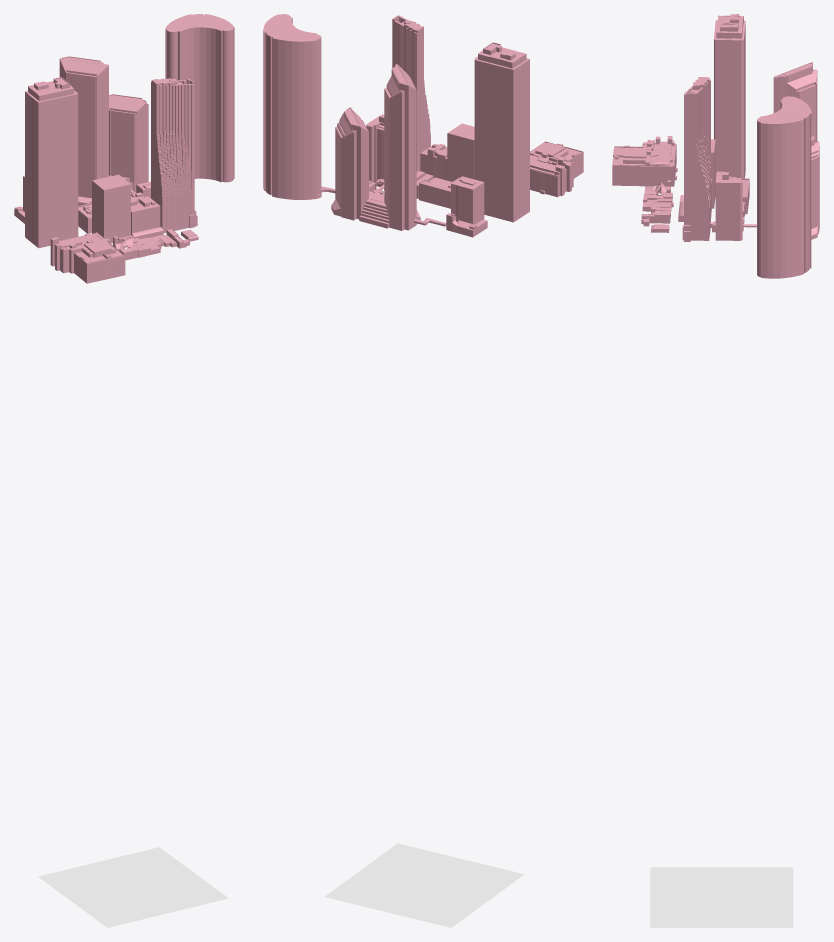
The model's file is gltf-qgisthreejs-exporter-test.gltf.
3 renders of one model, left to right at view 1: azimuth 30°, elevation 25°; view 2: azimuth 150°, elevation 25°; view 3: azimuth 270°, elevation 25°, orthographic. The views are drawn at different scales.
Visible parts, largest first — view 1: Buildings3D_2023January3, Flat Plane; view 2: Buildings3D_2023January3, Flat Plane; view 3: Buildings3D_2023January3, Flat Plane.
Part boxes in pixels (x1,y1,x2,y2): Buildings3D_2023January3: (14, 14, 234, 283); Flat Plane: (38, 847, 228, 927); Buildings3D_2023January3: (263, 14, 583, 237); Flat Plane: (325, 843, 524, 927); Buildings3D_2023January3: (612, 14, 819, 278); Flat Plane: (650, 867, 793, 927).
Bounding box in the file's own units: 379 × 1289 × 289.
Materials: 2 (1 with a texture image).
